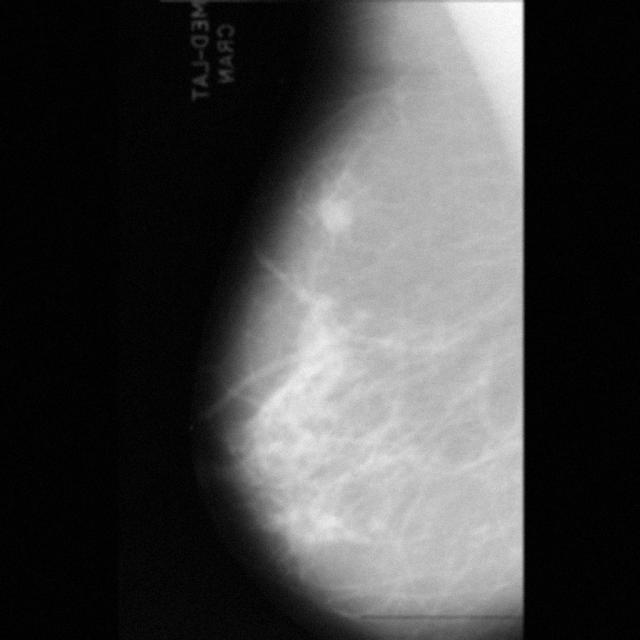CIRC: (318, 196, 354, 233)
